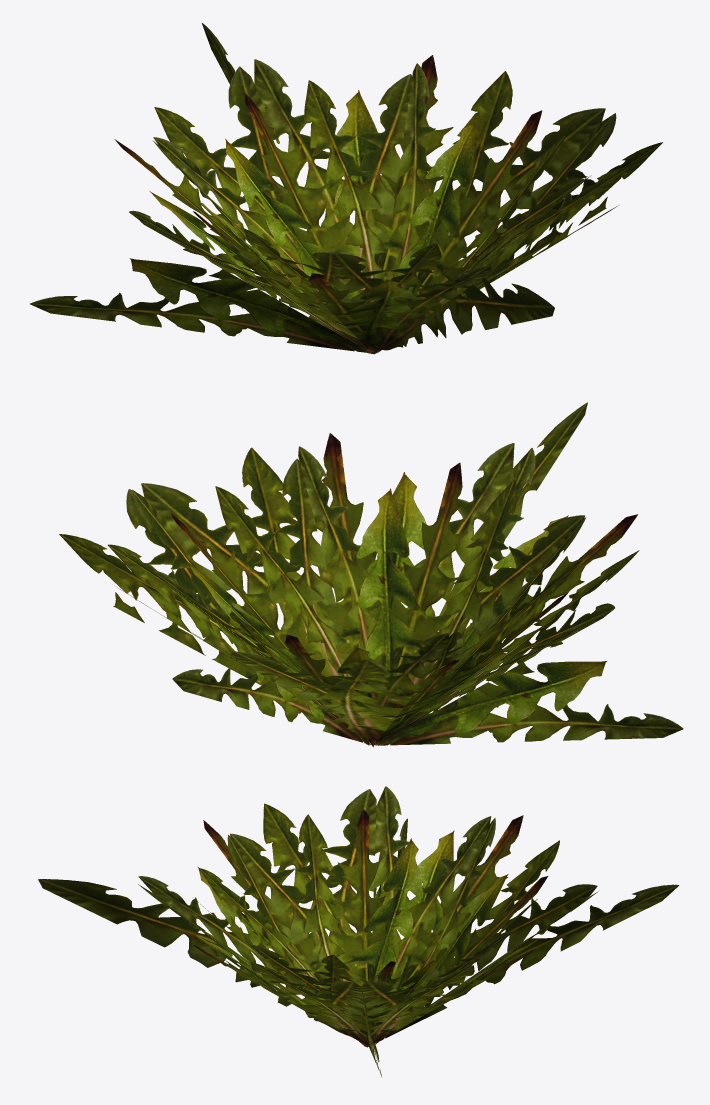
File: grass_ok.fbx
The picture shows the model from 3 angles, top to bottom: view 1: azimuth 30°, elevation 25°; view 2: azimuth 150°, elevation 25°; view 3: azimuth 270°, elevation 25°; orthographic projection. The views are drawn at different scales.
Parts seen in each view (by area): view 1: Cone02; view 2: Cone02; view 3: Cone02.
Boxes of the visible parts, <box> form: Cone02: <box>30,23,662,354</box>; Cone02: <box>59,402,683,747</box>; Cone02: <box>38,786,679,1076</box>.
Size of the model in its own units: 0.3721 by 0.1087 by 0.3857.
